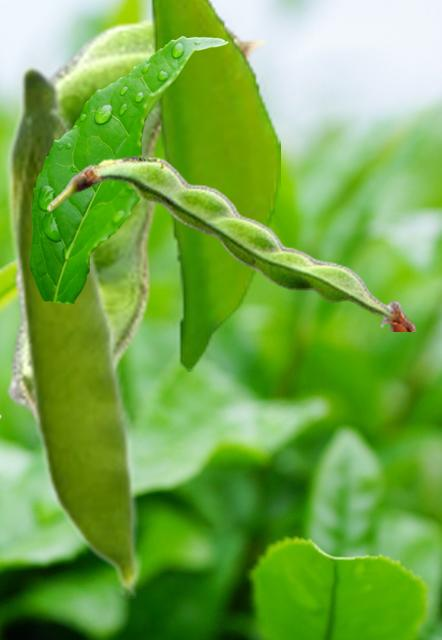pea: (5, 15, 267, 431), (5, 62, 143, 597), (47, 156, 416, 330)
